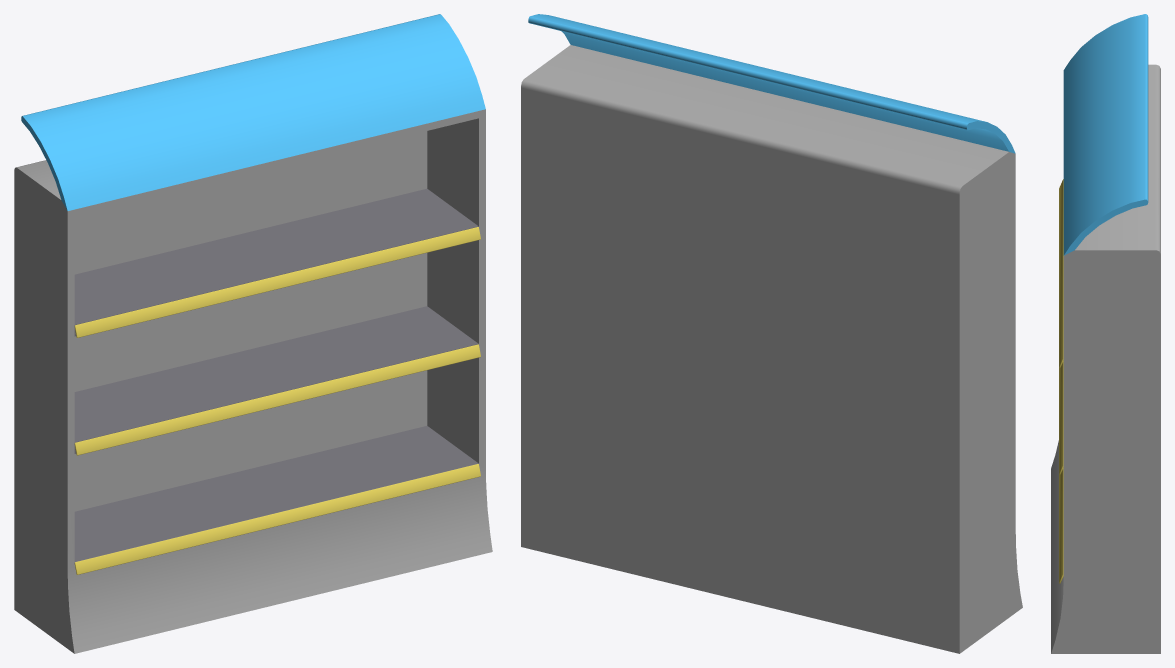
File: Shelf.fbx
3 views of the same model, side by side, from view 1: azimuth 30°, elevation 25°; view 2: azimuth 150°, elevation 25°; view 3: azimuth 270°, elevation 25° (orthographic). The views are drawn at different scales.
Parts seen in each view (by area): view 1: Shelf; view 2: Shelf; view 3: Shelf.
Part boxes in pixels (box(x1,y1,x2,y2)): Shelf: box(14, 14, 492, 653); Shelf: box(521, 14, 1022, 653); Shelf: box(1051, 14, 1160, 653).
Bounding box in the file's own units: 200 × 228 × 50.
